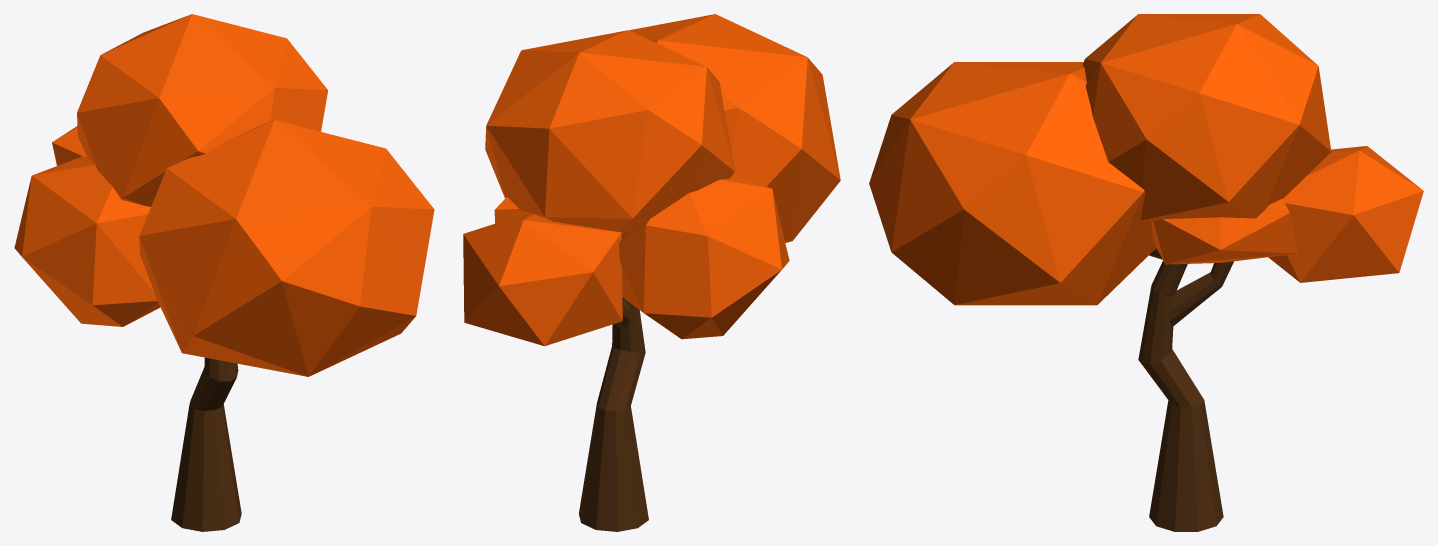
Rendered from Maple_Tree_002.fbx.
3 renders of one model, left to right at view 1: azimuth 30°, elevation 25°; view 2: azimuth 150°, elevation 25°; view 3: azimuth 270°, elevation 25°, orthographic. The views are drawn at different scales.
Visible parts, largest first — view 1: Maple Tree.002; view 2: Maple Tree.002; view 3: Maple Tree.002.
Part boxes in pixels (<box>): Maple Tree.002: <box>14,14,434,531</box>; Maple Tree.002: <box>463,14,840,531</box>; Maple Tree.002: <box>869,14,1423,531</box>.
Bounding box in the file's own units: 249 × 377 × 381.
